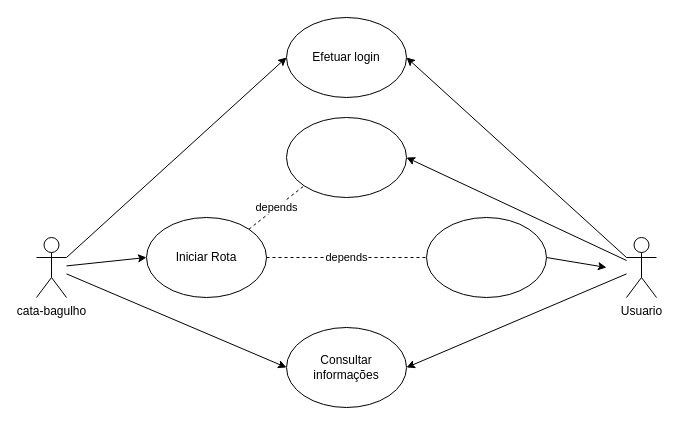
Some shapes in this 679 by 425 pixel diagram are drawn without their labels. Each missing label, with the centre of its shape:
"localizar cata-bagulho" belongs at point 346,157.
"Notificar" belongs at point 486,257.
